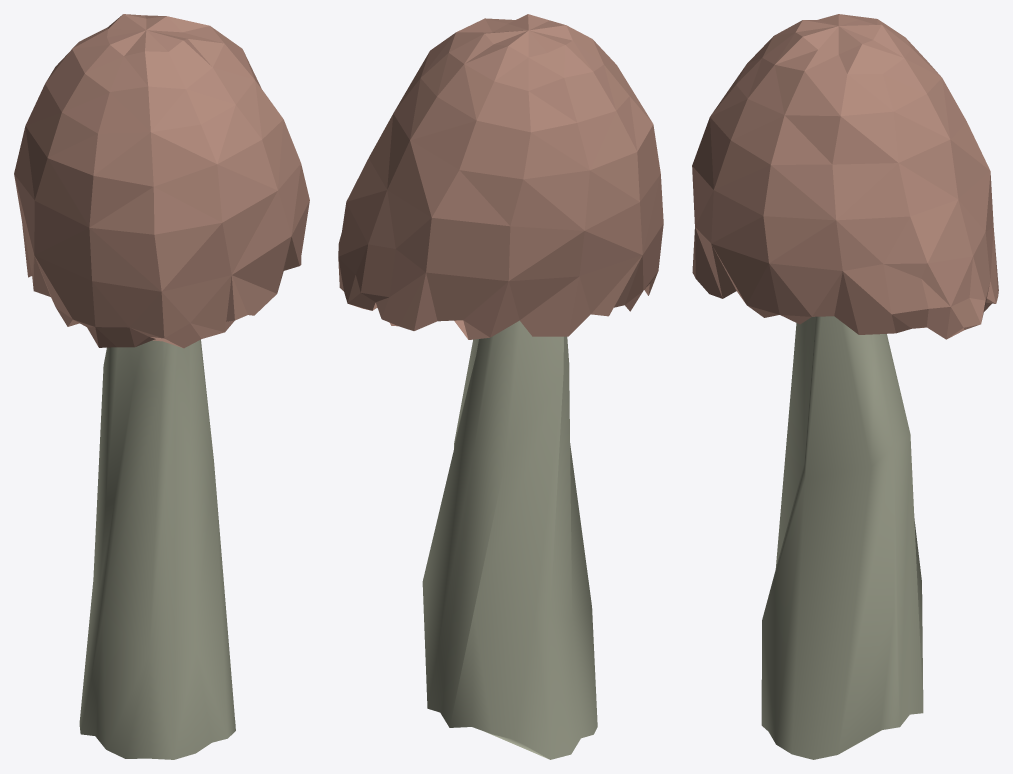
Rendered from spore6.fbx.
The picture shows the model from 3 angles, left to right: view 1: azimuth 30°, elevation 25°; view 2: azimuth 150°, elevation 25°; view 3: azimuth 270°, elevation 25°; orthographic projection.
Visible parts, largest first — view 1: spore5_pCylinder2; view 2: spore5_pCylinder2; view 3: spore5_pCylinder2.
Boxes of the visible parts, x1,y1,x2,y2 form: spore5_pCylinder2: [14, 14, 309, 759]; spore5_pCylinder2: [338, 14, 663, 759]; spore5_pCylinder2: [692, 14, 998, 759].
Bounding box in the file's own units: 4.25 × 10.78 × 4.3.
